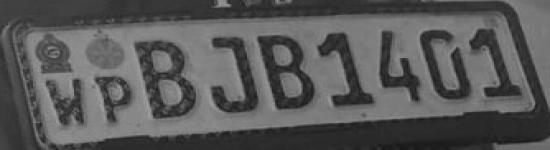0: (420, 26, 470, 111)
1: (319, 26, 376, 116), (471, 21, 525, 110)
4: (379, 26, 421, 110)
B: (134, 34, 202, 122), (259, 28, 318, 116)
J: (206, 31, 258, 118)
P: (92, 71, 135, 125)
W: (45, 73, 90, 129)
